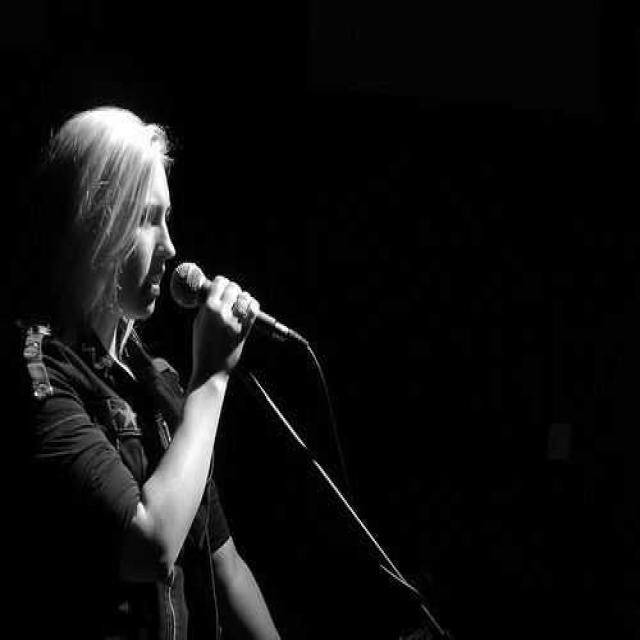microphone: (173, 262, 305, 352)
